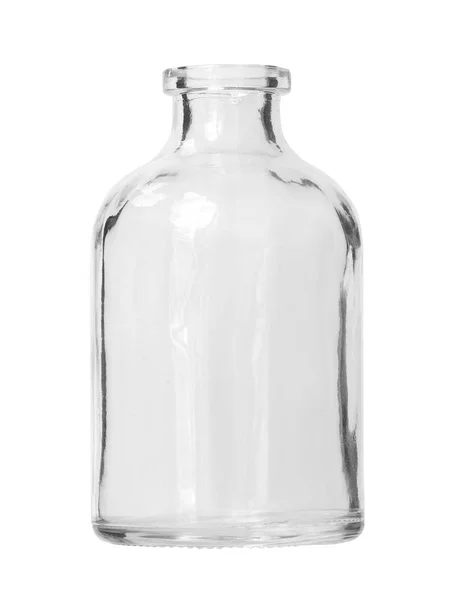glass_bottle: (67, 54, 412, 563)
